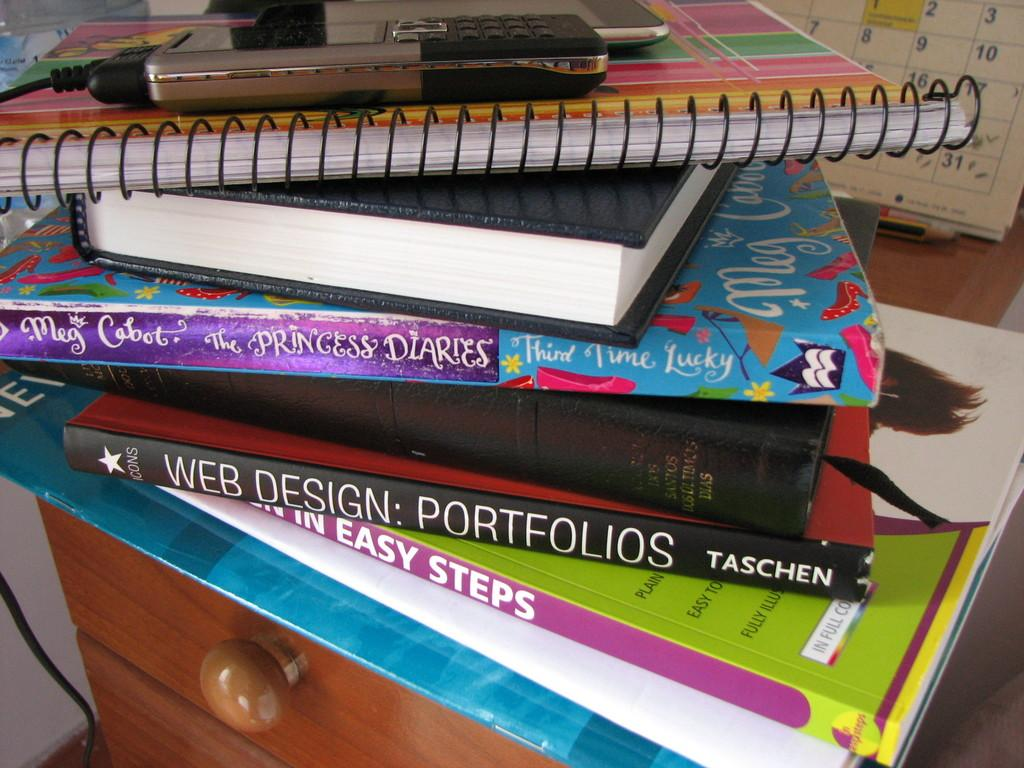Book: (0, 157, 885, 406)
